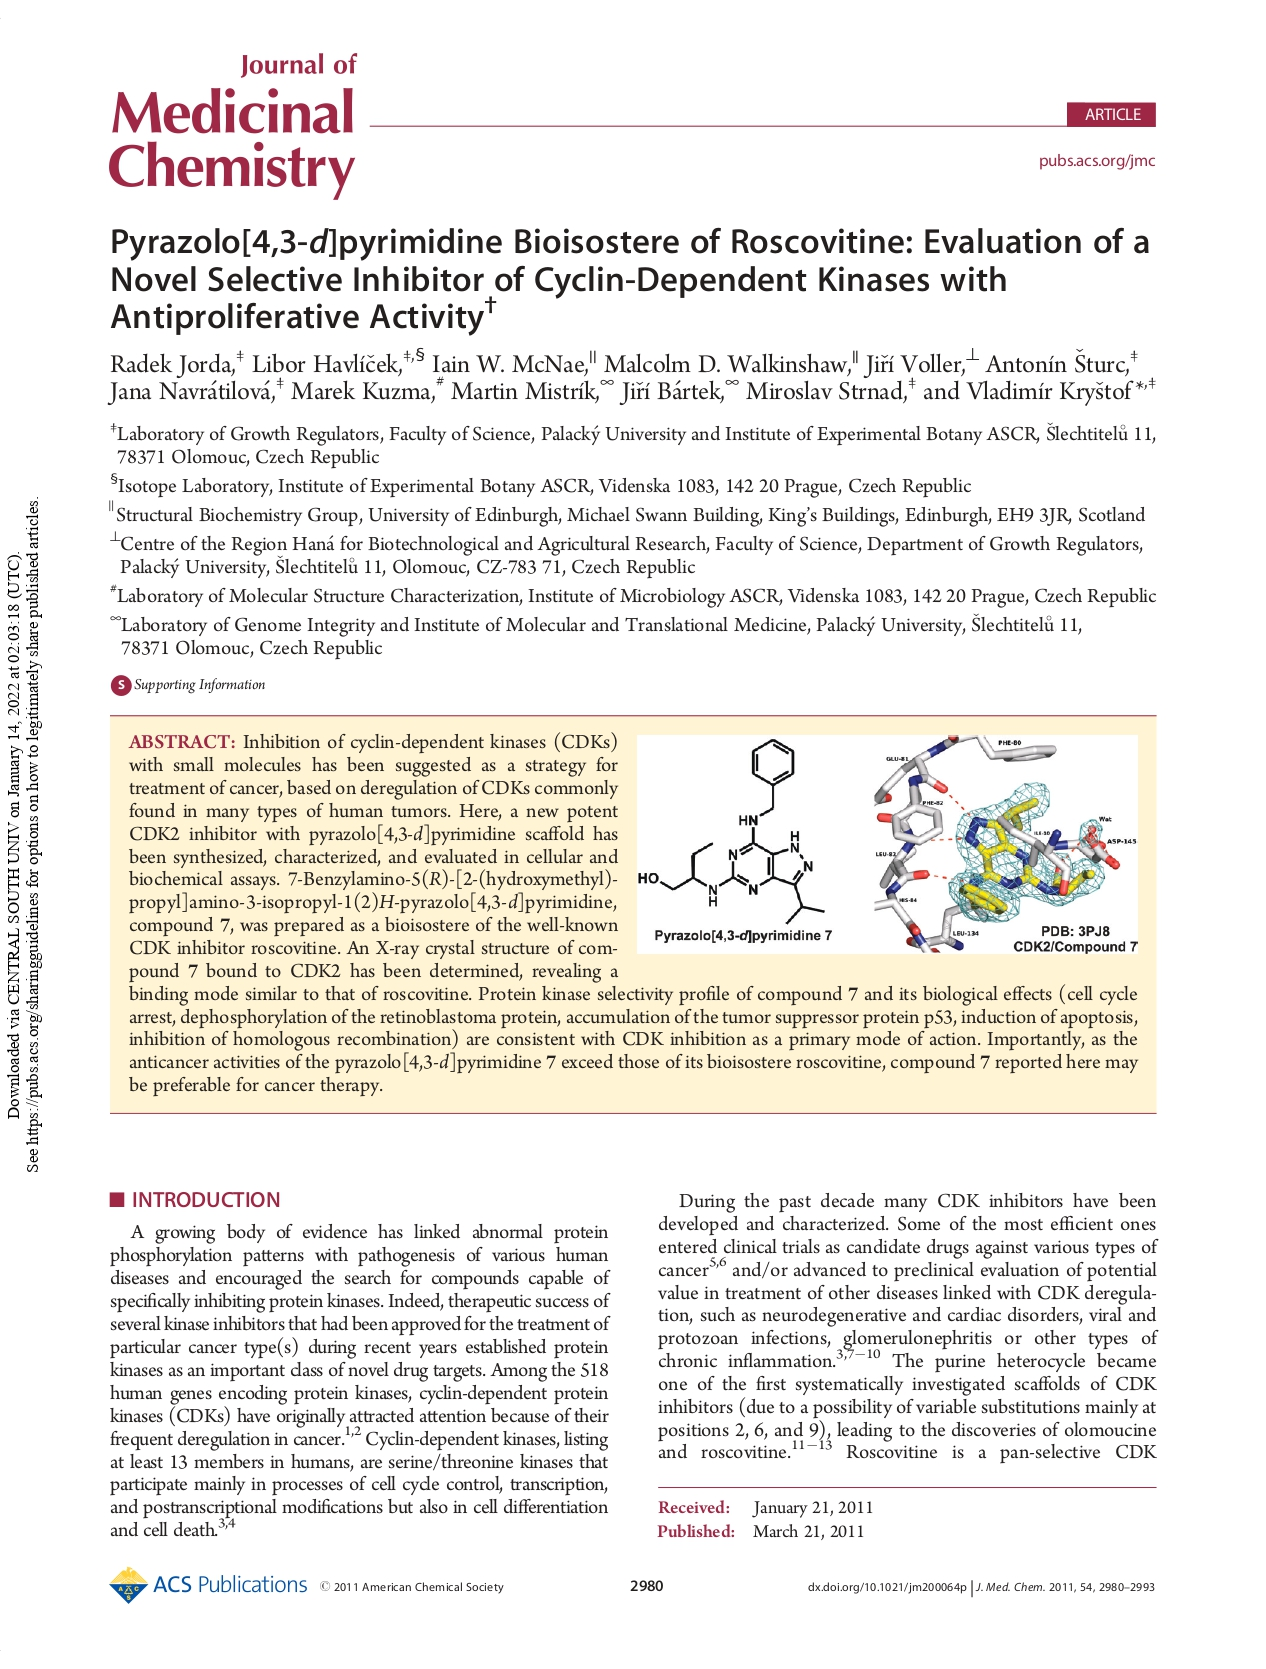exist_molecular: (637, 737, 827, 926)
